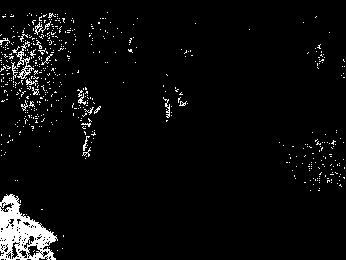person: (71, 86, 101, 160)
